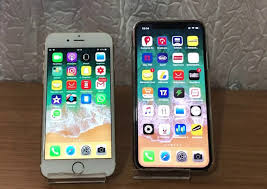iphone: (130, 17, 214, 171), (39, 27, 116, 181)
iphone10: (130, 18, 214, 172), (40, 28, 117, 182)
